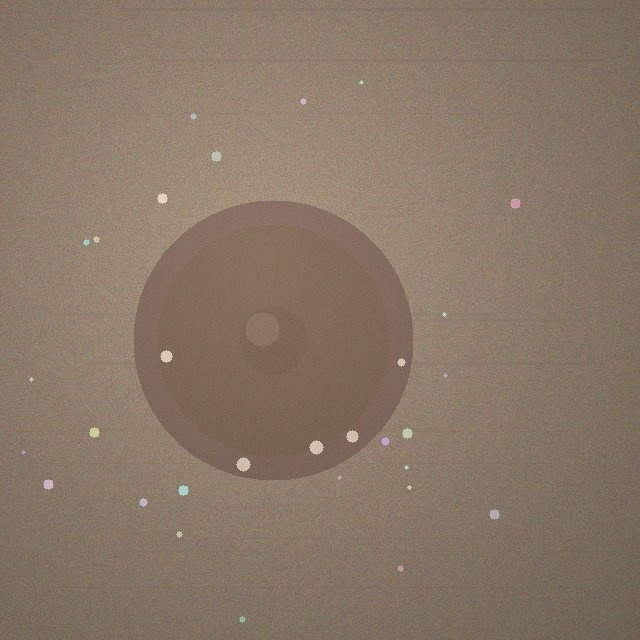overburn: (133, 200, 413, 480)
